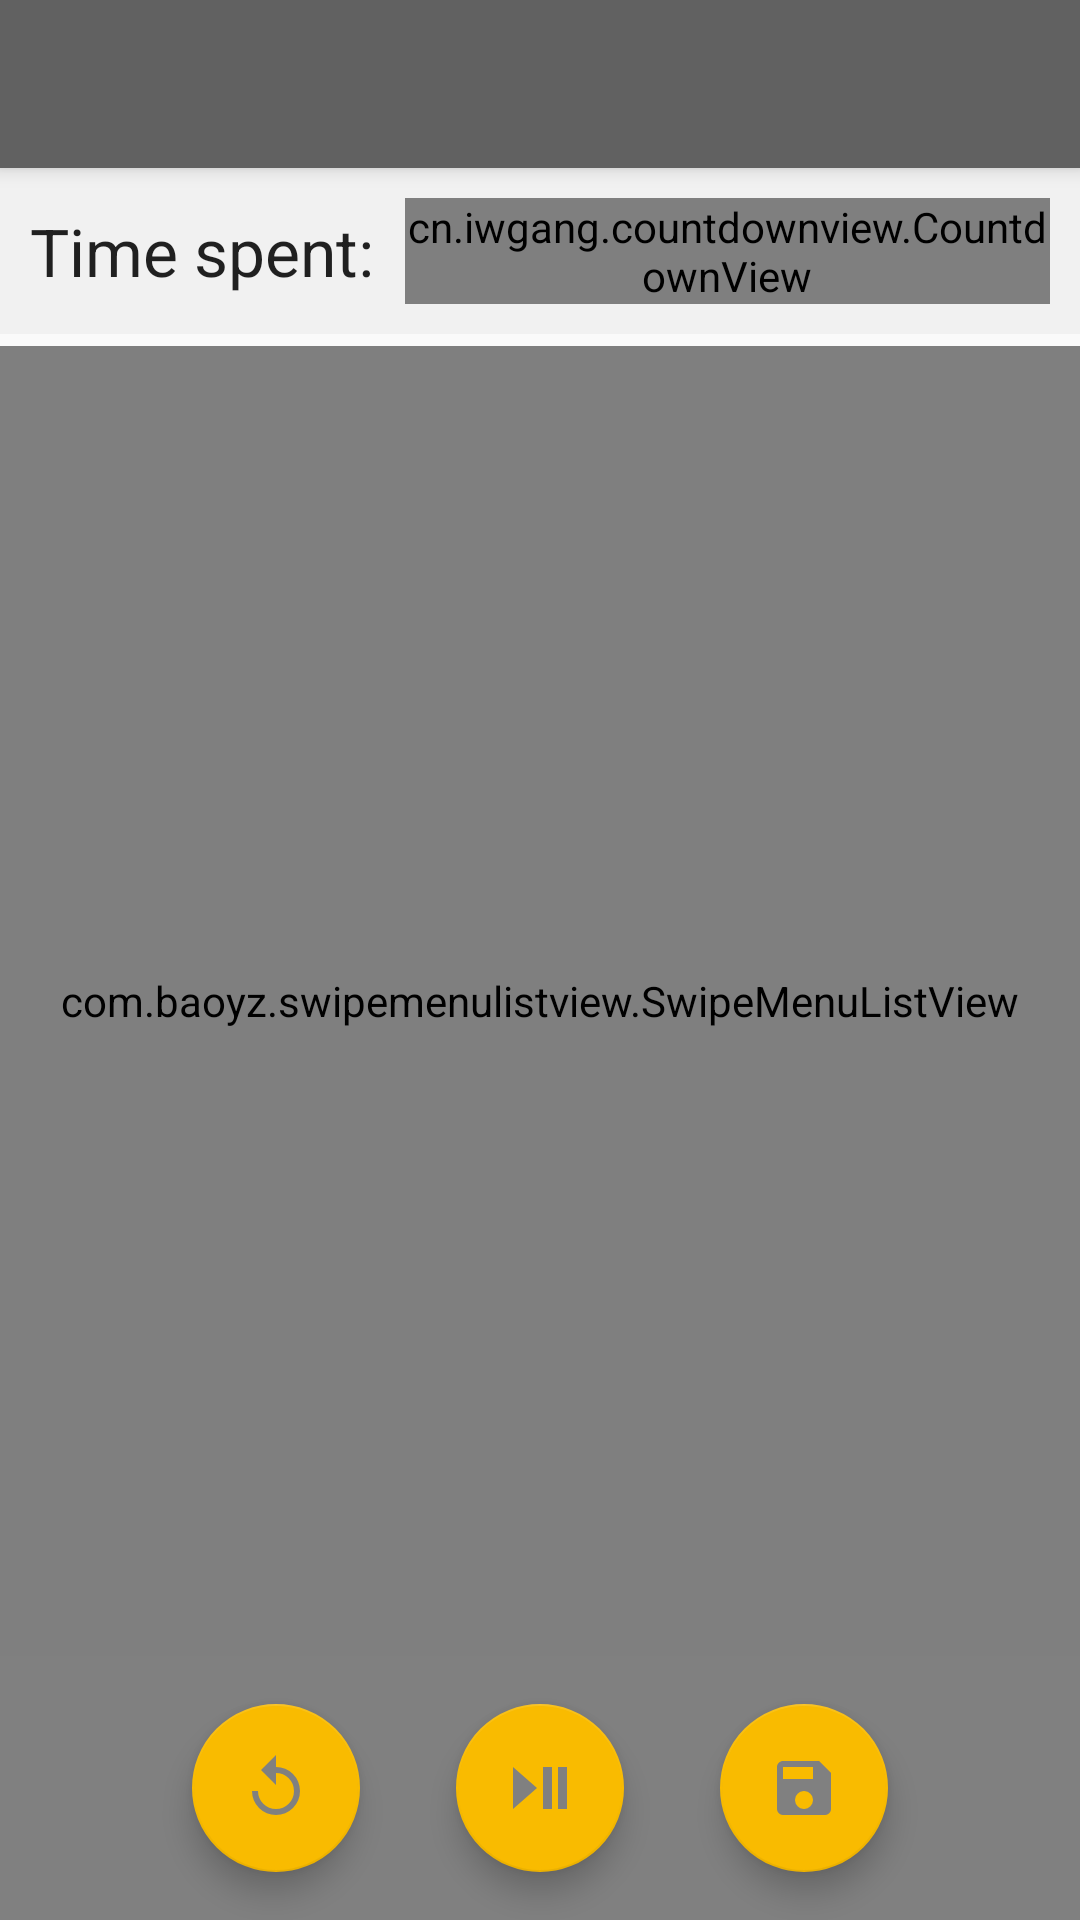

Where icons sit on this 1080w x 1920h app screen, as [x1=x1, y1=y1, x2=x2, y2=y2]:
content save: [x1=720, y1=1704, x2=888, y2=1872]
play pause: [x1=456, y1=1704, x2=624, y2=1872]
replay: [x1=192, y1=1704, x2=360, y2=1872]
